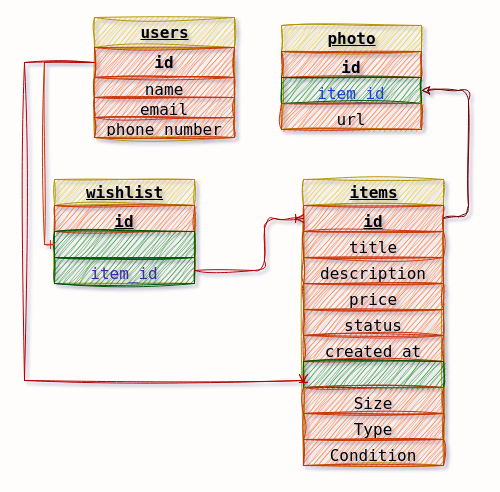
Some shapes in this 500 by 492 pixel diagram are drawn without their labels. The centre of each missing label's shape, as x and y in pixels:
"seller_id" goes at point (373, 374).
"user_id" goes at point (124, 244).
